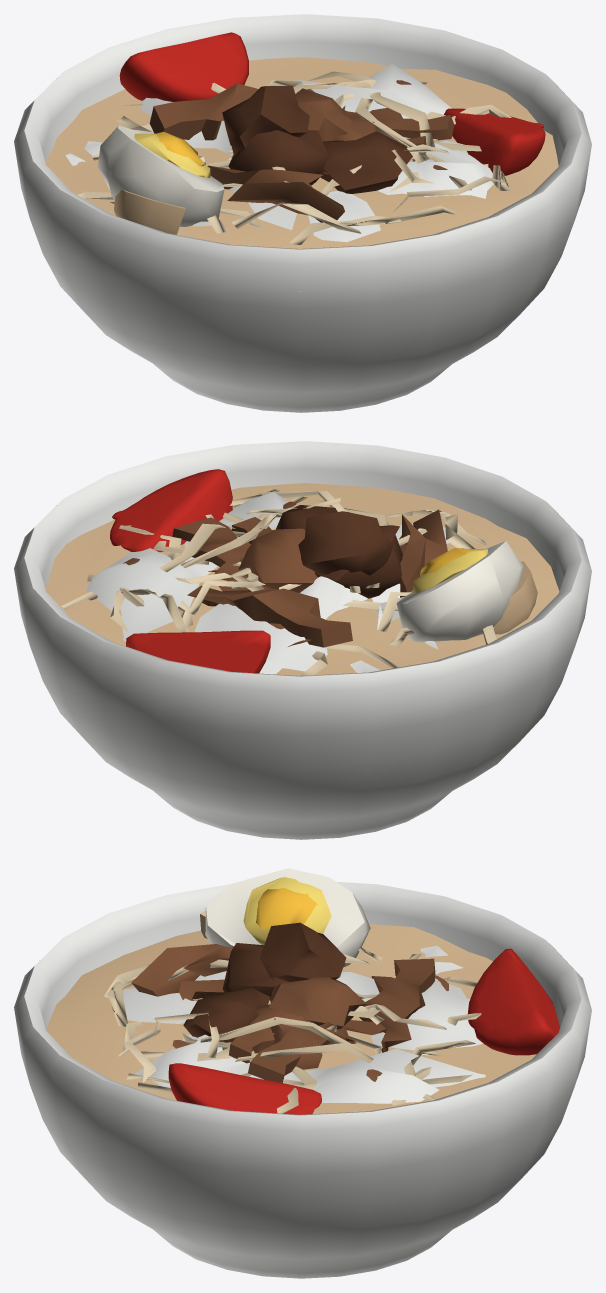
The model's file is SotoBetawi_low poly.fbx.
The picture shows the model from 3 angles, top to bottom: view 1: azimuth 30°, elevation 25°; view 2: azimuth 150°, elevation 25°; view 3: azimuth 270°, elevation 25°; orthographic projection.
Parts seen in each view (by area): view 1: Cylinder.013; view 2: Cylinder.013; view 3: Cylinder.013.
Part boxes in pixels (<box>): Cylinder.013: <box>14,14,591,412</box>; Cylinder.013: <box>14,441,591,839</box>; Cylinder.013: <box>14,868,591,1278</box>.
Size of the model in its own units: 39.18 by 20.8 by 39.18.
